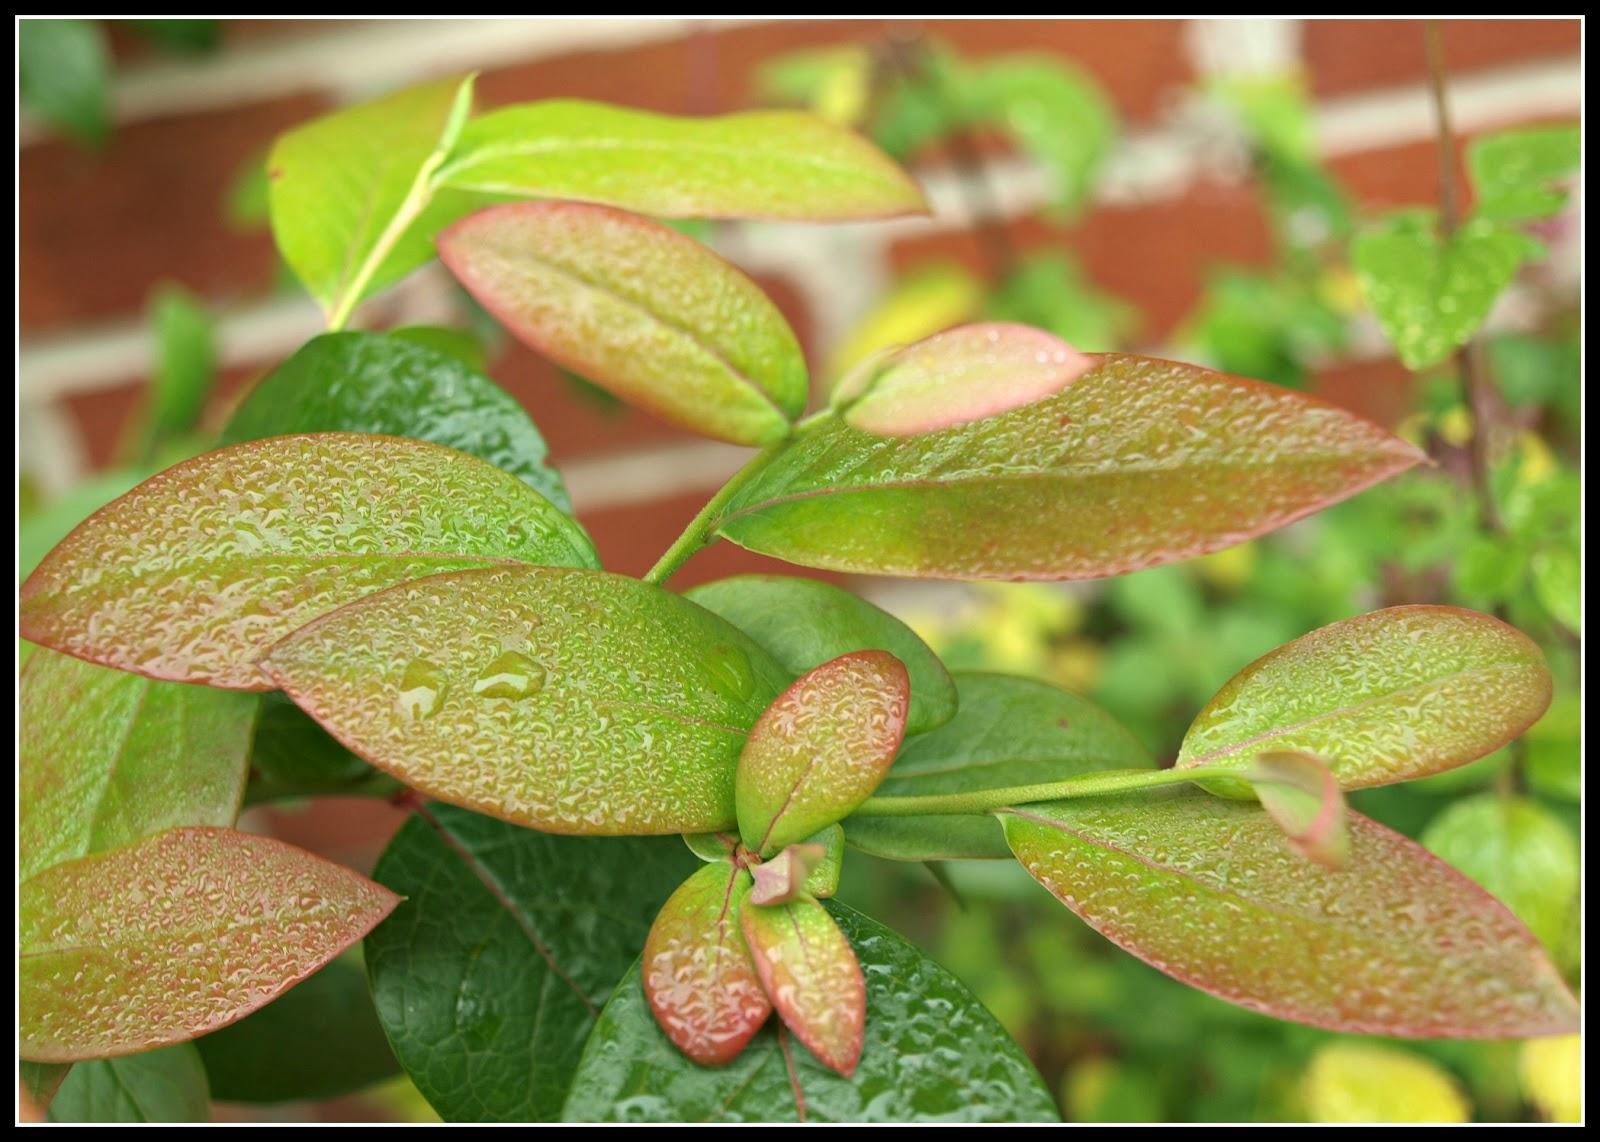Blueberry leaf: (723, 345, 1446, 598), (990, 768, 1600, 1060), (253, 554, 813, 856), (20, 445, 626, 700), (17, 816, 416, 1068), (1182, 598, 1556, 795), (722, 630, 971, 840), (729, 864, 898, 1085)
